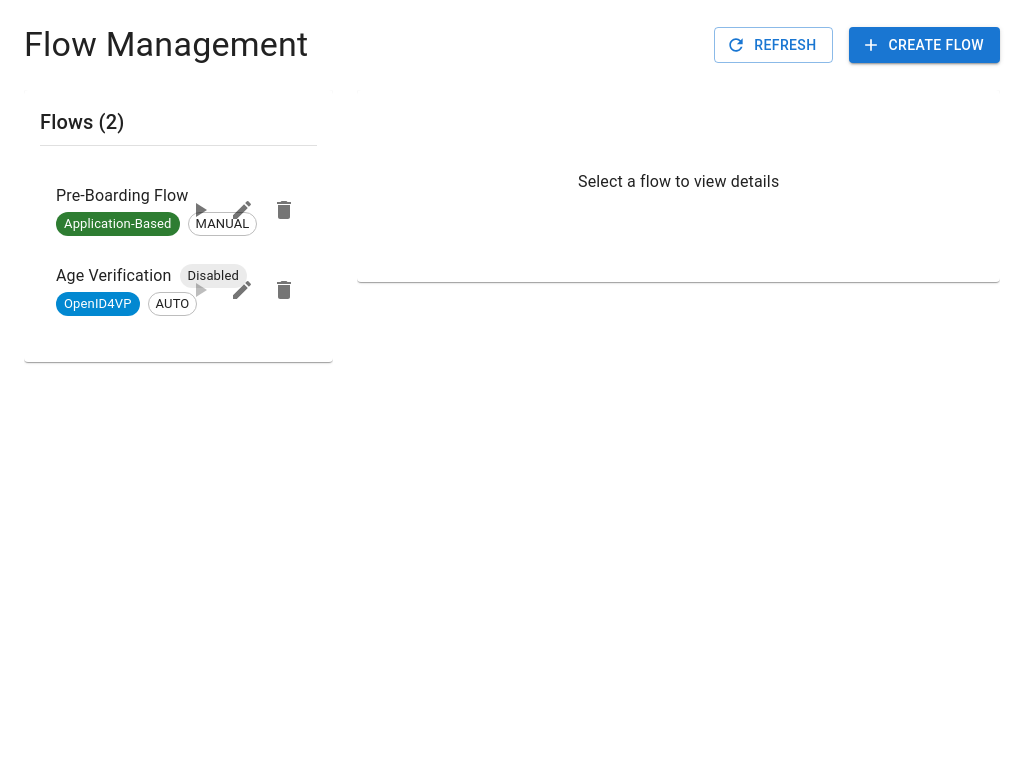
Test: FlowsPage › should open create dialog when Create Flow button clicked
The image size is (1024, 768).
Click the button "Create Flow" at (924, 45), box [849,27,1000,63]
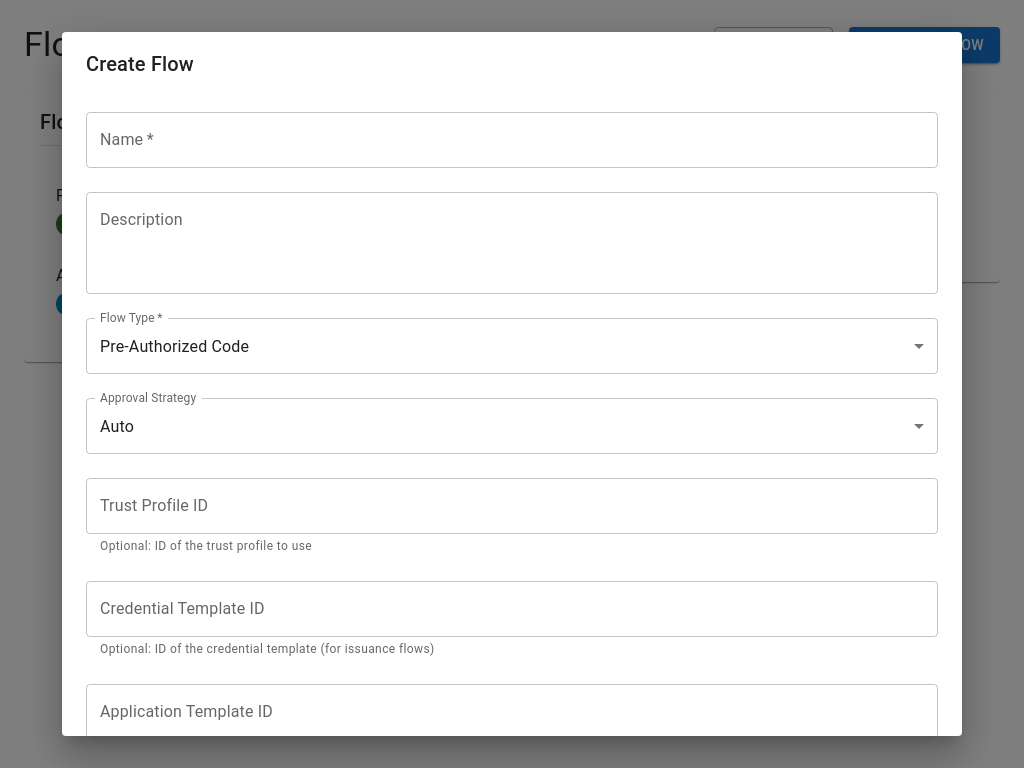
Now the heading "Create Flow" is shown, box [86,52,194,76]
